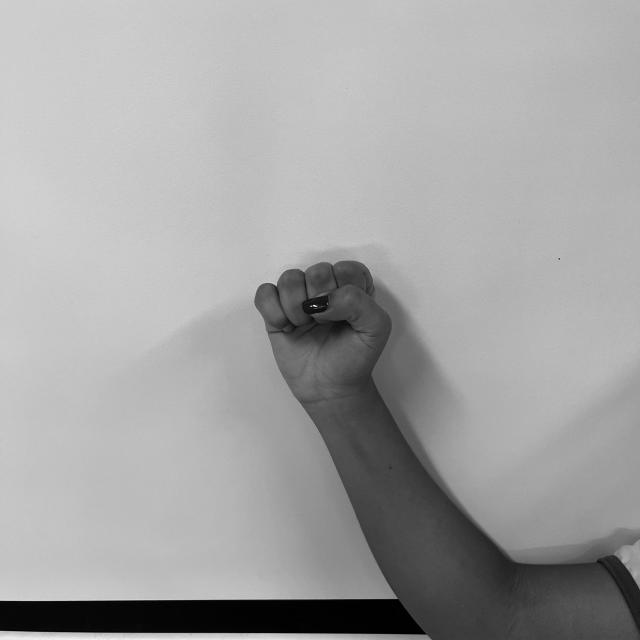Letra S: (252, 256, 399, 403)
